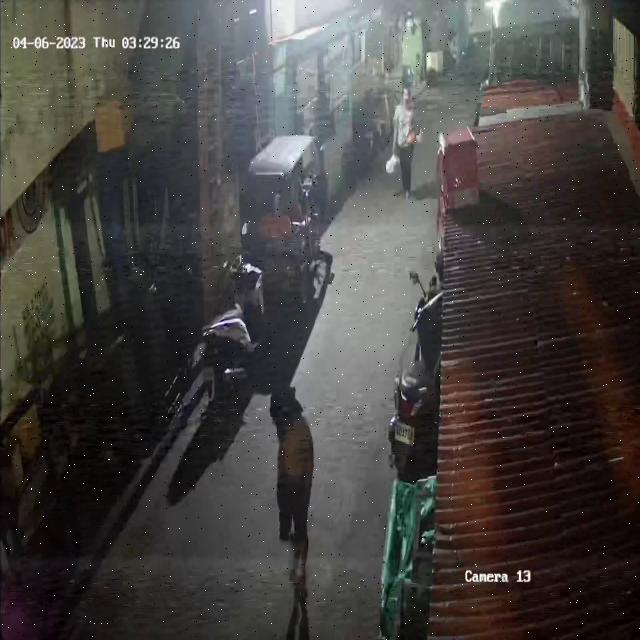garbage_dumping: (384, 153, 401, 175)
